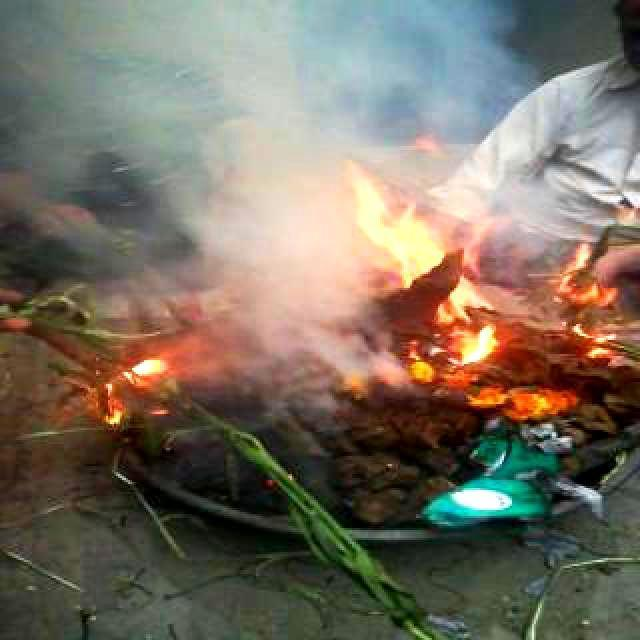Fire: (361, 159, 496, 377), (539, 237, 635, 363), (96, 350, 178, 428)
Smoke: (0, 0, 382, 319)
